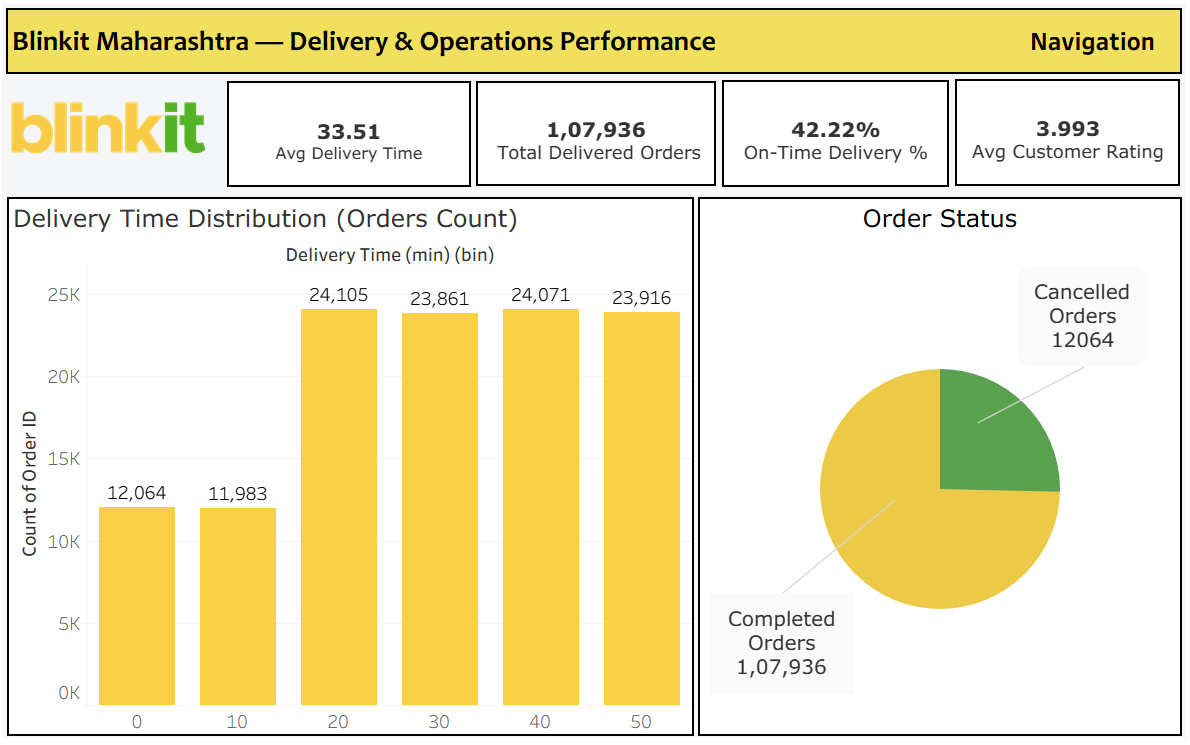

The page's visual inventory and layout, read from the dashboard file:
{"tool":"tableau","page":{"name":"Delivery & Operations Performance","canvas":[1200,750],"ordinal":2},"visuals":[{"type":"text","box":[8,8,1184,74]},{"type":"dashboard-object","box":[1016,19,164,52]},{"type":"worksheet","title":"KPI - Avg Customer Rating","mark":"Automatic","box":[961,83,225,107]},{"type":"worksheet","title":"KPI - On-Time Delivery %","mark":"Automatic","box":[728,84,227,107]},{"type":"worksheet","title":"KPI - Avg Delivery Time (min)","mark":"Automatic","box":[233,85,244,106]},{"type":"worksheet","title":"KPI - Total Delivered Orders","mark":"Automatic","box":[482,85,240,105]},{"type":"image","param":"Image/Blinkit_idCmcpCDCZ_1.png","box":[17,106,194,69]},{"type":"worksheet","title":"Delivery Time Distribution (Orders Count)","mark":"Automatic","rows":["Order ID"],"cols":["Delivery Time (min) (bin)"],"box":[13,201,687,539]},{"type":"worksheet","title":"Order Status","mark":"Pie","box":[704,201,484,539]}]}

Visuals, with their boxes in screenshot pixels (x1, y1, x2, y2), scaled from the page's 1200x750 canvas onto the 1190x745 screenshot:
text: [8,8,1182,81]
dashboard-object: [1008,19,1170,71]
"KPI - Avg Customer Rating" worksheet: [953,82,1176,189]
"KPI - On-Time Delivery %" worksheet: [722,83,947,190]
"KPI - Avg Delivery Time (min)" worksheet: [231,84,473,190]
"KPI - Total Delivered Orders" worksheet: [478,84,716,189]
image: [17,105,209,174]
"Delivery Time Distribution (Orders Count)" worksheet: [13,200,694,735]
"Order Status" worksheet (Pie marks): [698,200,1178,735]
